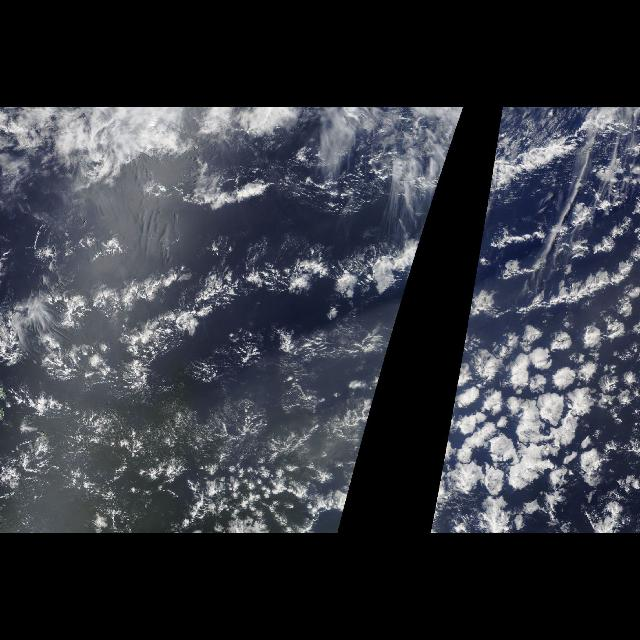Flower: (432, 147, 640, 533), (314, 202, 434, 514), (440, 147, 452, 185)
